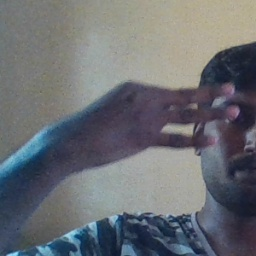K: (77, 77, 241, 163)
